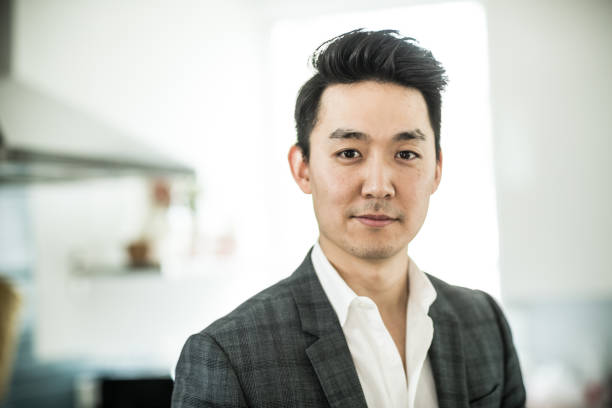person: (287, 26, 445, 263)
